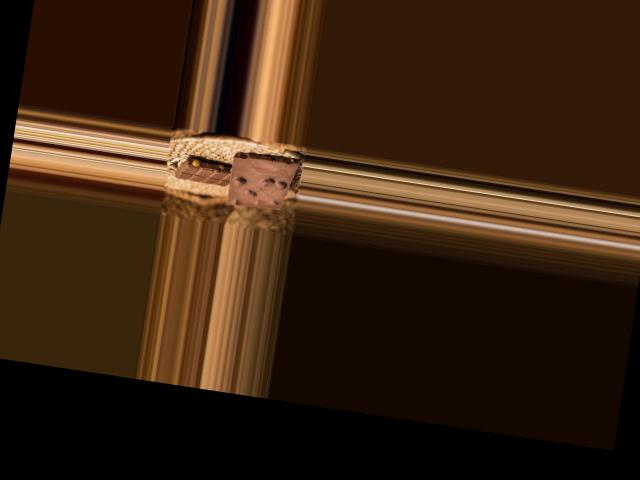chocolate: (221, 149, 299, 215)
